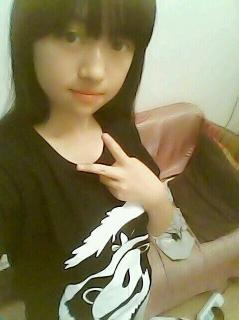short sleeve top: (0, 115, 161, 319)
